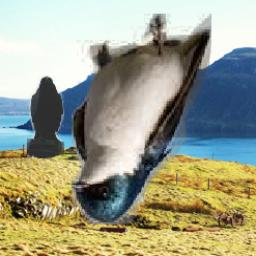Crow: (27, 77, 64, 159)
Swallow: (73, 15, 212, 226)
